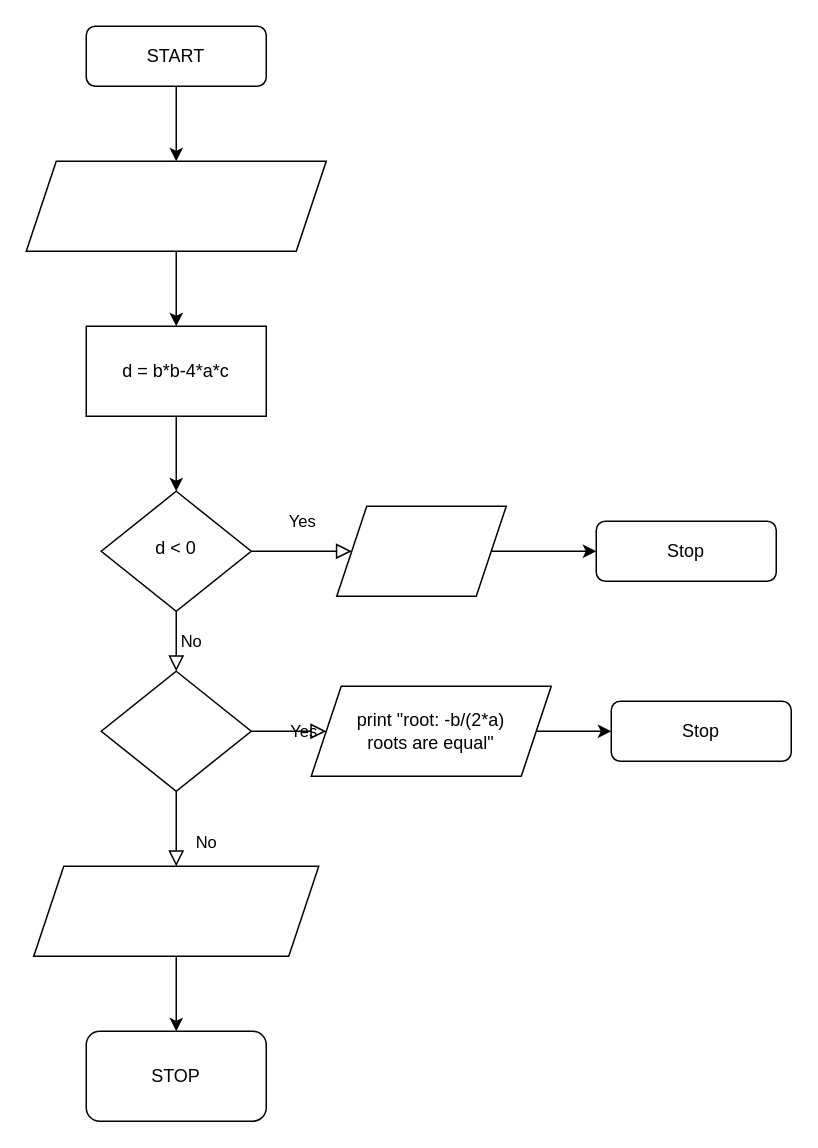
This 818x1148 diagram has some shape labels left out. The box of each missing label's shape, as (x1, y1, x2, y2) in pixels:
d == 0: (100, 670, 251, 791)
Input a, b, c for ax^2+bx+c=0: (25, 160, 326, 251)
print "no real roots exist": (335, 505, 506, 596)
print roots are: (-b+sqrt(d))/(2*a) (-b-sqrt(d))/(2*a): (32, 865, 319, 956)
